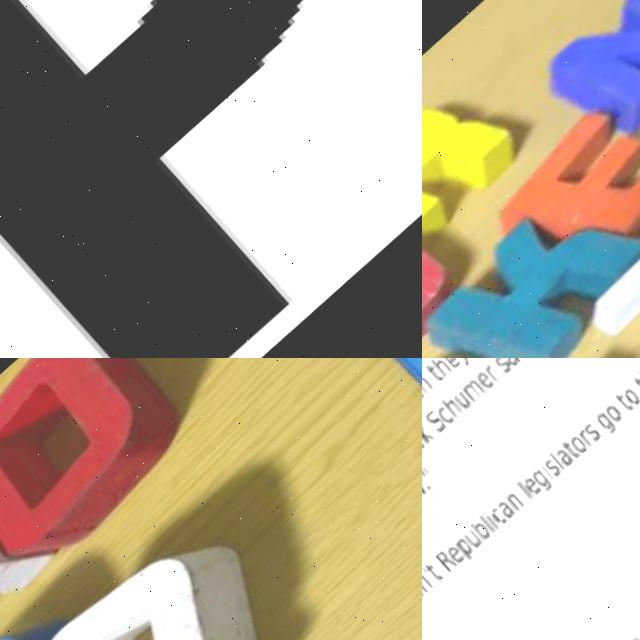A: (554, 444, 576, 467), (497, 496, 519, 518), (499, 358, 521, 366)
B: (468, 514, 494, 540)
C: (434, 402, 456, 423), (488, 504, 509, 524), (422, 429, 427, 450), (422, 379, 426, 400)
E: (469, 49, 640, 313), (521, 472, 545, 496), (474, 368, 496, 390), (446, 542, 468, 564), (440, 358, 463, 369), (626, 629, 640, 640)
G: (594, 408, 619, 433), (531, 467, 556, 491)
H: (0, 434, 67, 640), (440, 391, 464, 416), (429, 358, 453, 375), (422, 368, 434, 392)
I: (536, 458, 555, 478), (482, 508, 501, 527)
K: (423, 167, 640, 358), (422, 418, 435, 443)
L: (547, 448, 567, 469), (515, 477, 534, 497), (478, 511, 496, 530)
M: (459, 374, 487, 402)
N: (523, 0, 640, 167), (505, 489, 527, 510), (422, 570, 435, 592)
O: (0, 358, 193, 587), (620, 382, 640, 407), (568, 432, 590, 454), (604, 401, 624, 422)
P: (454, 534, 479, 560)
Q: (0, 509, 327, 640)
R: (422, 59, 537, 285), (434, 545, 460, 571), (482, 360, 502, 381), (577, 426, 594, 444)
S: (424, 407, 448, 431), (543, 455, 564, 477), (582, 420, 604, 441), (492, 358, 514, 372)
T: (611, 387, 635, 411), (423, 559, 447, 583), (423, 359, 446, 382), (560, 437, 582, 459), (631, 372, 640, 394)
U: (422, 189, 476, 358), (463, 526, 486, 548), (452, 388, 473, 409)
W: (422, 470, 431, 501)
Y: (450, 358, 475, 366)
